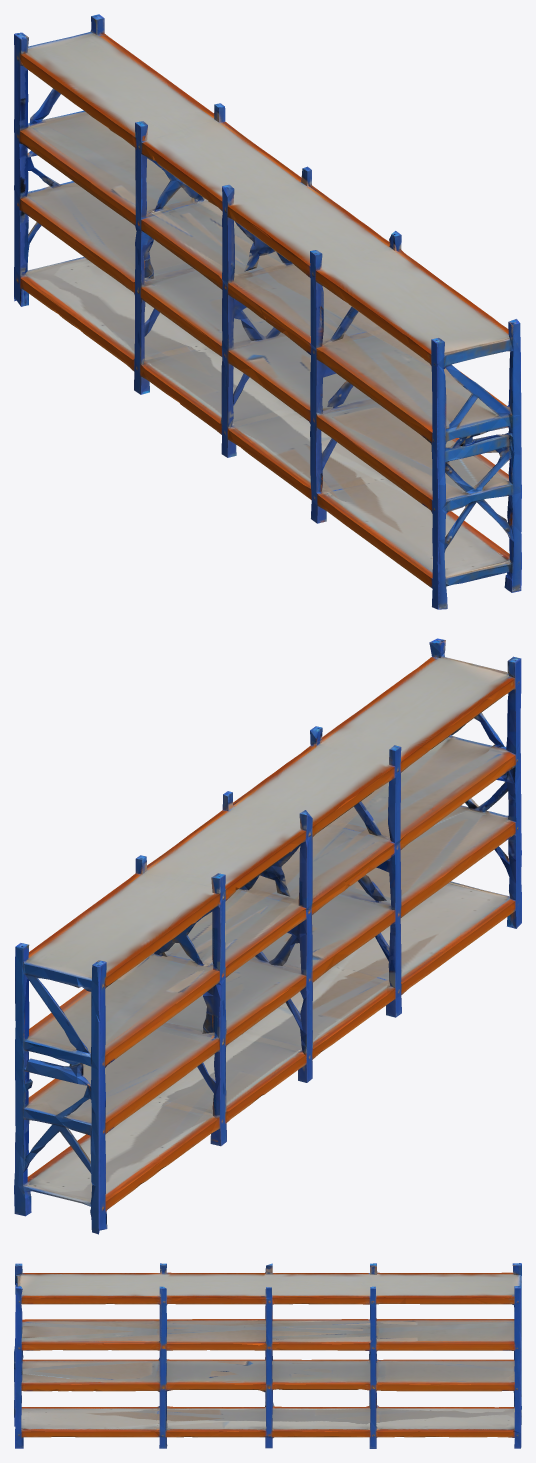
Rendered from Warehouse_Shelving_Un_0506064540_texture.fbx.
The picture shows the model from 3 angles, top to bottom: view 1: azimuth 30°, elevation 25°; view 2: azimuth 150°, elevation 25°; view 3: azimuth 270°, elevation 25°; orthographic projection. The views are drawn at different scales.
Visible parts, largest first — view 1: temp; view 2: temp; view 3: temp.
Boxes of the visible parts, box(x1,y1,x2,y2) form: temp: box(14, 14, 521, 609); temp: box(14, 638, 521, 1234); temp: box(14, 1263, 521, 1448).
Size of the model in its own units: 23.78 by 69.97 by 200.
Materials: 1 (1 with a texture image).
